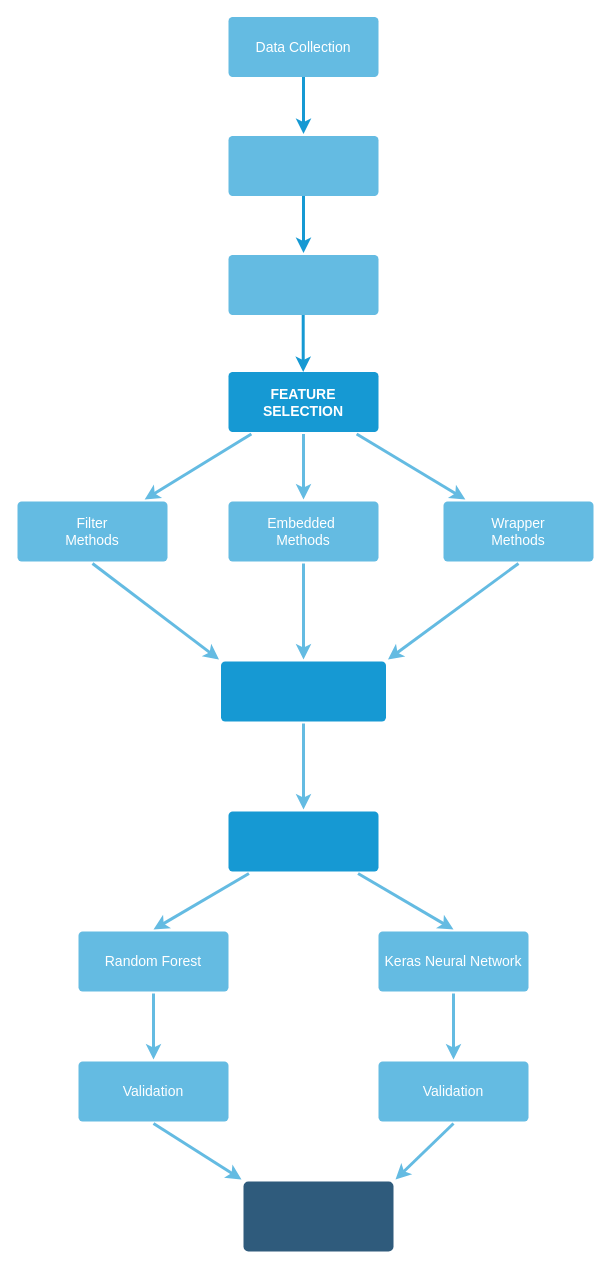
Some shapes in this 610 by 1269 pixel diagram are drawn without their labels. The centre of each missing label's shape, as x and y in pixels:
Data Cleaning: (x=303, y=166)
Data Transformation: (x=303, y=284)
Features selected with Voting System (Borda Count): (x=303, y=691)
LOCAL - CAMS MODEL COMPARISON: (x=318, y=1216)
LOCAL MODELS SETTING UP: (x=303, y=841)
